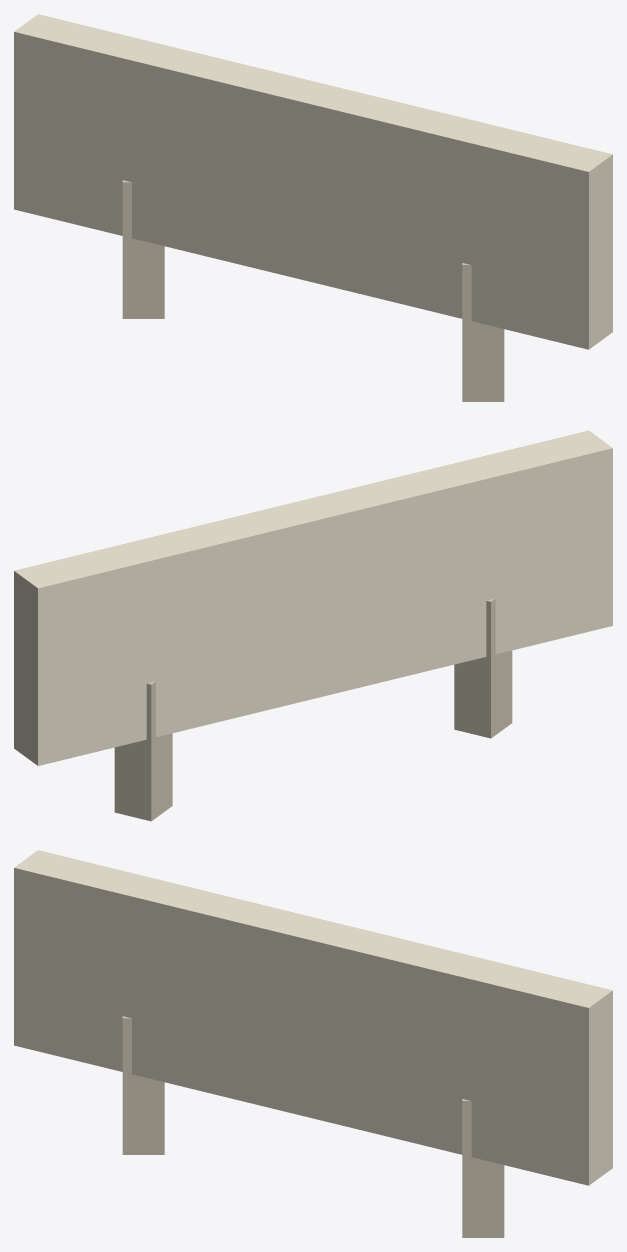
Rendered from rail-60.glb.
3 views of the same model, one above another, from view 1: azimuth 90°, elevation 25°; view 2: azimuth 150°, elevation 25°; view 3: azimuth 270°, elevation 25° (orthographic).
Size of the model in its own units: 0.3096 by 0.2362 by 0.4963.
